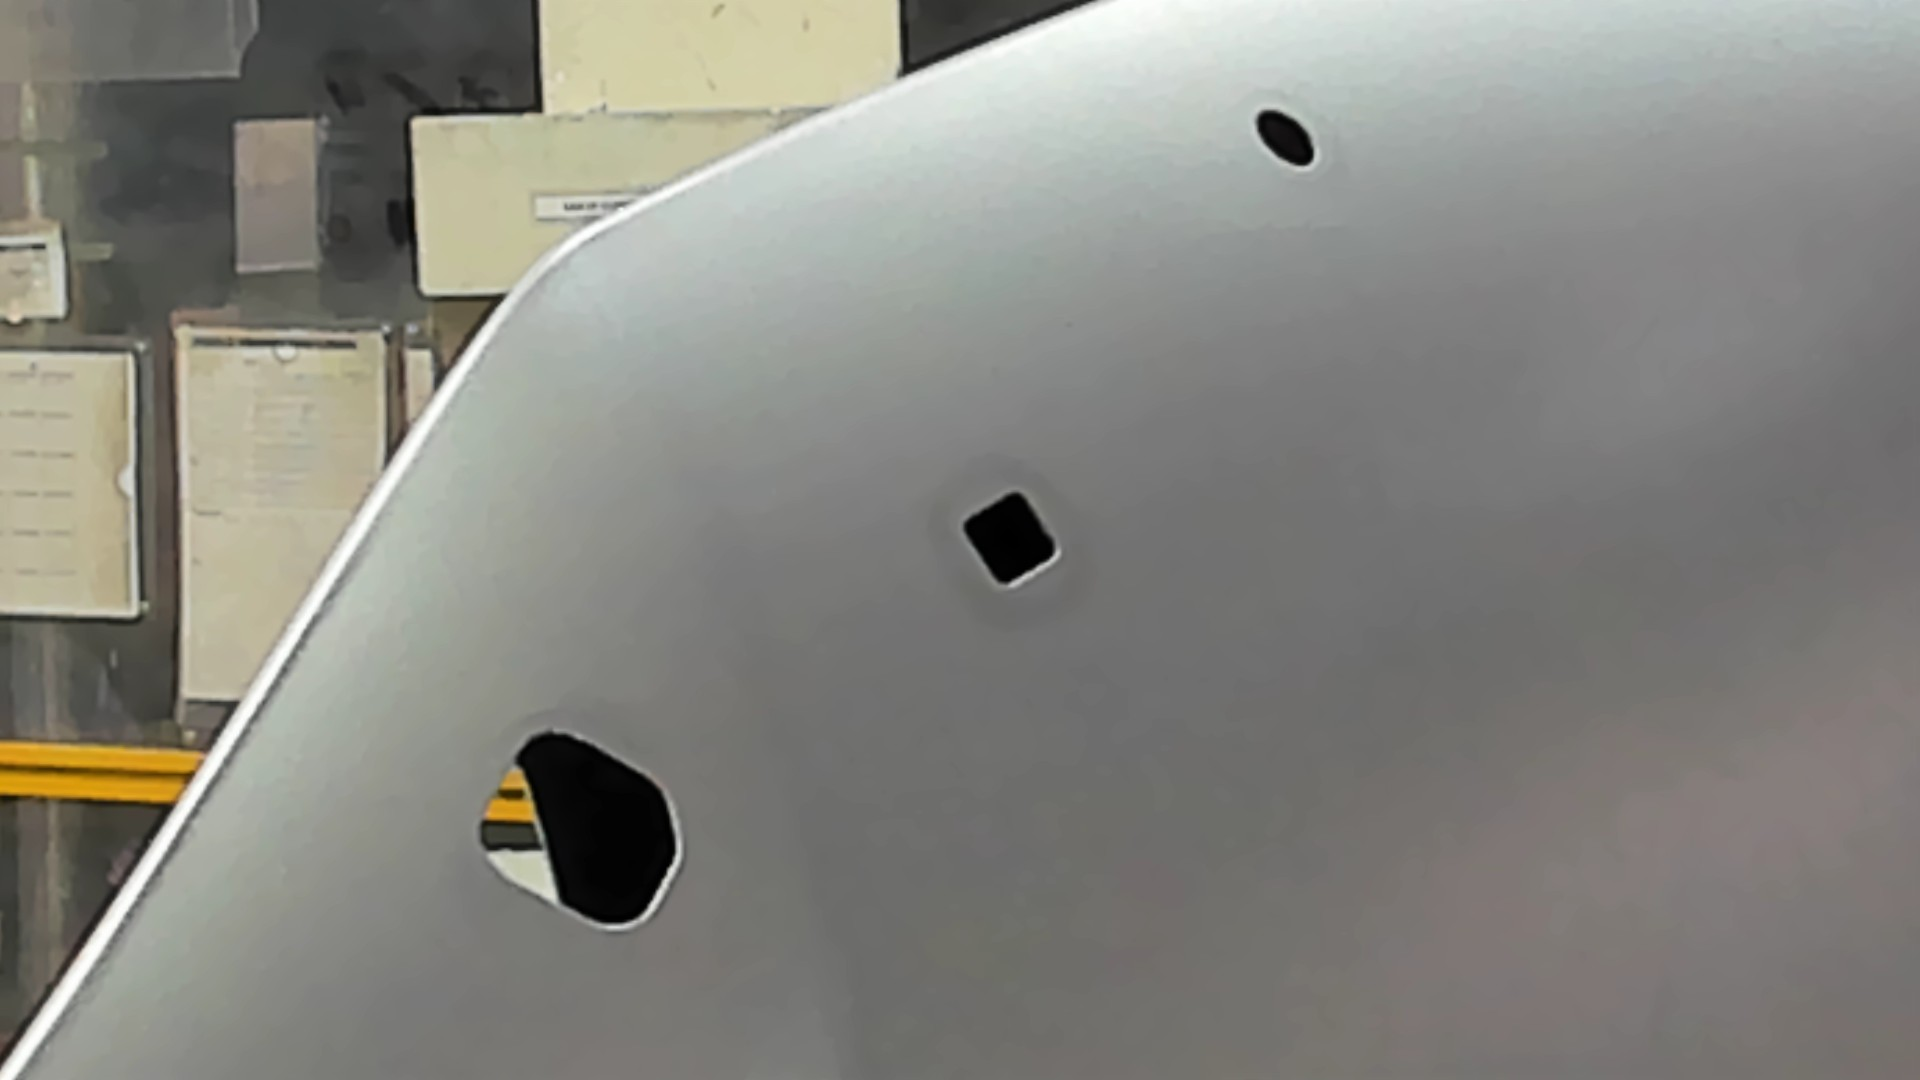capo: (1065, 178, 1920, 1080)
chico: (1251, 104, 1320, 173)
grande: (468, 723, 688, 938)
mediano: (957, 487, 1065, 596)
